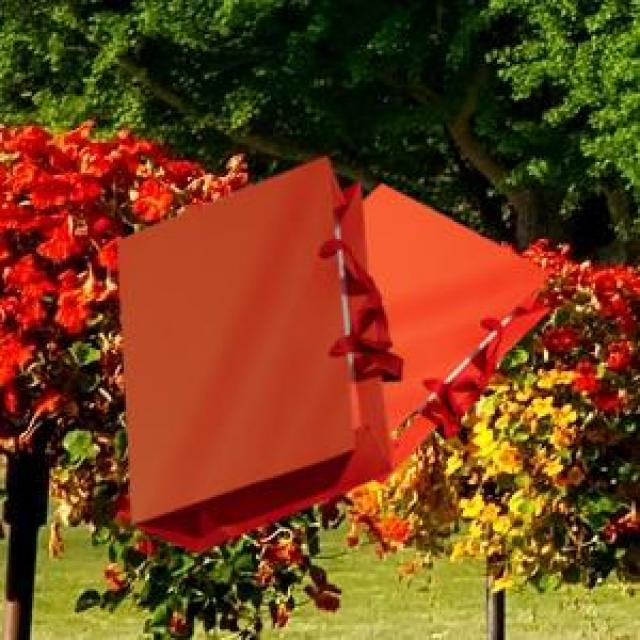Paper -Biodegradable-: (113, 154, 375, 551), (320, 171, 547, 472)
